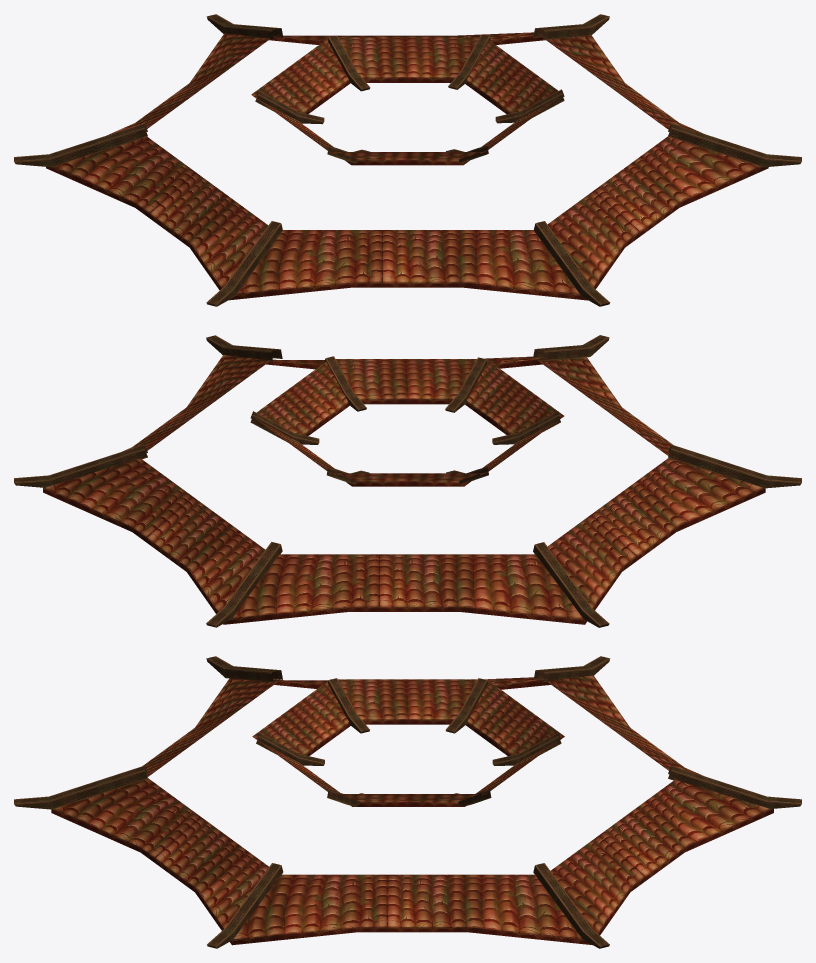
The model's file is environment_Building_huilang_001_a.FBX.
The picture shows the model from 3 angles, top to bottom: view 1: azimuth 30°, elevation 25°; view 2: azimuth 150°, elevation 25°; view 3: azimuth 270°, elevation 25°; orthographic projection.
Parts seen in each view (by area): view 1: environment_Building_huilang_001_a02, environment_Building_huilang_001_a01, environment_Building_huilang_001_a04, environment_Building_huilang_001_a03; view 2: environment_Building_huilang_001_a02, environment_Building_huilang_001_a01, environment_Building_huilang_001_a04, environment_Building_huilang_001_a03; view 3: environment_Building_huilang_001_a02, environment_Building_huilang_001_a01, environment_Building_huilang_001_a04, environment_Building_huilang_001_a03.
Part boxes in pixels (x1,y1,x2,y2): environment_Building_huilang_001_a02: (46, 32, 768, 300); environment_Building_huilang_001_a01: (251, 37, 563, 165); environment_Building_huilang_001_a04: (14, 14, 801, 306); environment_Building_huilang_001_a03: (255, 34, 564, 163); environment_Building_huilang_001_a02: (43, 355, 765, 624); environment_Building_huilang_001_a01: (252, 359, 564, 486); environment_Building_huilang_001_a04: (14, 335, 801, 627); environment_Building_huilang_001_a03: (250, 356, 560, 484); environment_Building_huilang_001_a02: (51, 675, 773, 945); environment_Building_huilang_001_a01: (252, 679, 564, 806); environment_Building_huilang_001_a04: (14, 656, 801, 948); environment_Building_huilang_001_a03: (256, 678, 561, 806).
Size of the model in its own units: 704 by 88.25 by 806.
2 materials, 2 textured.
